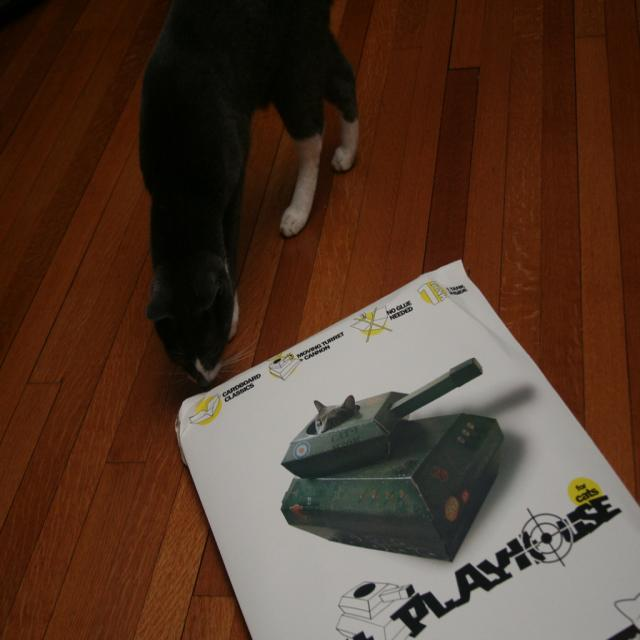tank: (278, 355, 504, 560)
